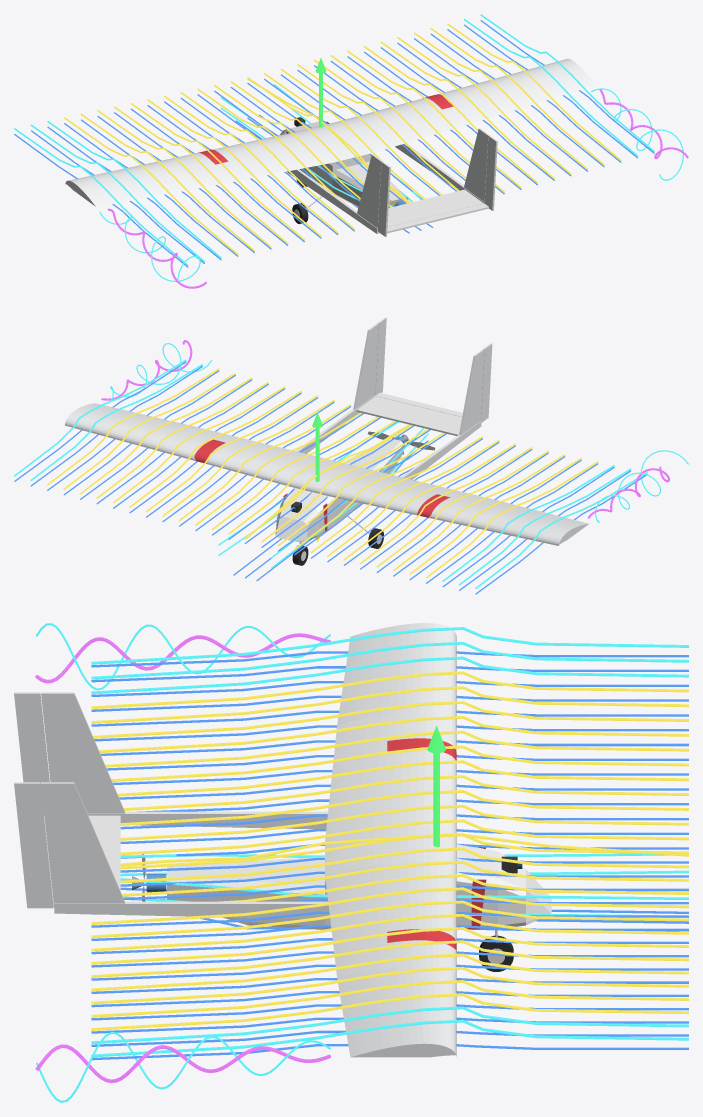
File: Garuda_Vedang_1500mm_CFD.glb
The picture shows the model from 3 angles, top to bottom: view 1: azimuth 30°, elevation 25°; view 2: azimuth 150°, elevation 25°; view 3: azimuth 270°, elevation 25°; orthographic projection. The views are drawn at different scales.
Parts seen in each view (by area): view 1: Wing_Continuous_1500mm, Fuselage_Main_Body, Horizontal_Stabilizer_S1, Vertical_Fin_Left_S2, Vertical_Fin_Right_S2, Tail_Boom_Left_F9, Rudder_Left_S4, Rudder_Right_S4, Elevator_S3, Tail_Boom_Right_F9, Streamline_Upper_0.45, Streamline_Upper_0.55 (+22 smaller); view 2: Wing_Continuous_1500mm, Fuselage_Main_Body, Horizontal_Stabilizer_S1, Vertical_Fin_Right_S2, Vertical_Fin_Left_S2, Tail_Boom_Left_F9, Rudder_Left_S4, Rudder_Right_S4, Tail_Boom_Right_F9, Streamline_Upper_0.30, Streamline_Upper_-0.45, Streamline_Upper_0.50 (+25 smaller); view 3: Wing_Continuous_1500mm, Fuselage_Main_Body, Vertical_Fin_Right_S2, Vertical_Fin_Left_S2, Tail_Boom_Right_F9, Rudder_Right_S4, Tail_Boom_Left_F9, Rudder_Left_S4, Streamline_Upper_0.50, Streamline_Upper_0.25, Streamline_Upper_0.30, Streamline_Upper_-0.65 (+61 smaller).
Boxes of the visible parts, bbox=[...] form: Wing_Continuous_1500mm: bbox=[65, 58, 595, 206]; Fuselage_Main_Body: bbox=[280, 121, 405, 207]; Horizontal_Stabilizer_S1: bbox=[387, 189, 483, 226]; Vertical_Fin_Left_S2: bbox=[357, 154, 382, 228]; Vertical_Fin_Right_S2: bbox=[464, 128, 489, 203]; Tail_Boom_Left_F9: bbox=[286, 169, 379, 233]; Rudder_Left_S4: bbox=[377, 161, 390, 236]; Rudder_Right_S4: bbox=[484, 135, 497, 210]; Elevator_S3: bbox=[387, 203, 488, 233]; Tail_Boom_Right_F9: bbox=[395, 143, 484, 203]; Streamline_Upper_0.45: bbox=[397, 37, 571, 174]; Streamline_Upper_0.55: bbox=[430, 28, 604, 165]; Wing_Continuous_1500mm: bbox=[65, 403, 588, 545]; Fuselage_Main_Body: bbox=[275, 438, 403, 542]; Horizontal_Stabilizer_S1: bbox=[356, 396, 461, 435]; Vertical_Fin_Right_S2: bbox=[353, 323, 378, 409]; Vertical_Fin_Left_S2: bbox=[459, 349, 484, 435]; Tail_Boom_Left_F9: bbox=[401, 421, 481, 479]; Rudder_Left_S4: bbox=[481, 343, 492, 422]; Rudder_Right_S4: bbox=[375, 317, 386, 395]; Tail_Boom_Right_F9: bbox=[296, 395, 375, 453]; Streamline_Upper_0.30: bbox=[146, 395, 318, 512]; Streamline_Upper_-0.45: bbox=[393, 454, 565, 571]; Streamline_Upper_0.50: bbox=[80, 377, 252, 494]; Wing_Continuous_1500mm: bbox=[325, 623, 456, 1057]; Fuselage_Main_Body: bbox=[167, 843, 551, 929]; Vertical_Fin_Right_S2: bbox=[41, 782, 125, 906]; Vertical_Fin_Left_S2: bbox=[41, 692, 125, 813]; Tail_Boom_Right_F9: bbox=[54, 901, 330, 919]; Rudder_Right_S4: bbox=[14, 782, 53, 908]; Tail_Boom_Left_F9: bbox=[88, 811, 327, 829]; Rudder_Left_S4: bbox=[14, 692, 49, 814]; Streamline_Upper_0.50: bbox=[91, 966, 688, 1004]; Streamline_Upper_0.25: bbox=[91, 900, 688, 938]; Streamline_Upper_0.30: bbox=[91, 914, 688, 951]; Streamline_Upper_-0.65: bbox=[91, 642, 688, 679].
Size of what is drawn, in the model's own units: 1.56 by 0.406 by 1.02.
